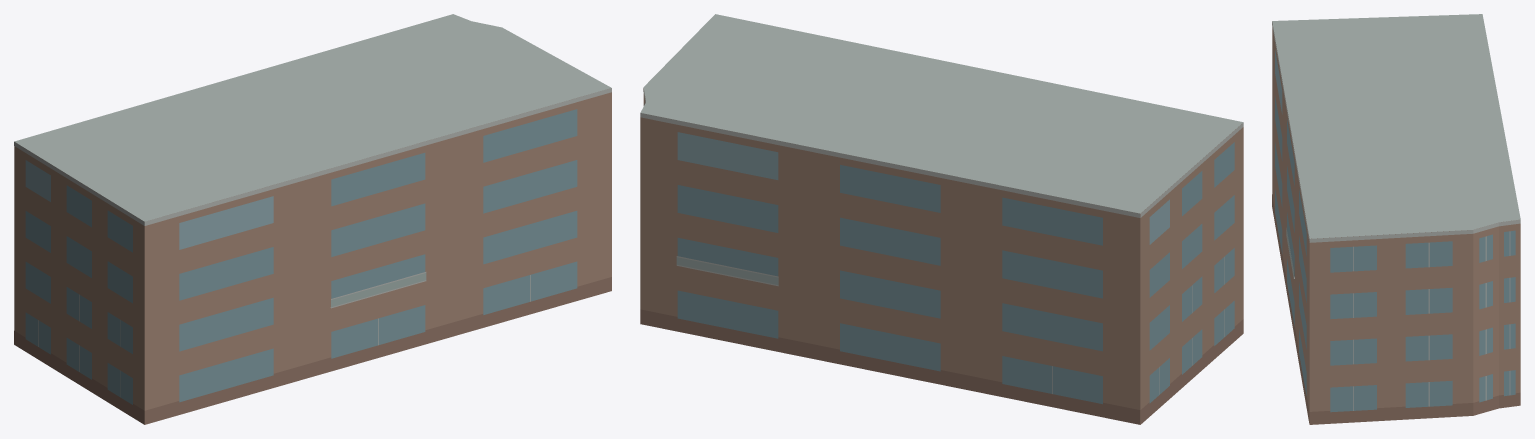
The model's file is survey-upis-32696663.glb.
3 views of the same model, side by side, from view 1: azimuth 30°, elevation 25°; view 2: azimuth 150°, elevation 25°; view 3: azimuth 270°, elevation 25° (orthographic). The views are drawn at different scales.
Parts seen in each view (by area): view 1: survey-upis-32696663.tmp; view 2: survey-upis-32696663.tmp; view 3: survey-upis-32696663.tmp.
Boxes of the visible parts, x1,y1,x2,y2 form: survey-upis-32696663.tmp: [14, 14, 611, 424]; survey-upis-32696663.tmp: [640, 14, 1243, 424]; survey-upis-32696663.tmp: [1272, 14, 1520, 424].
Bounding box in the file's own units: 29.56 × 11.4 × 13.82.
